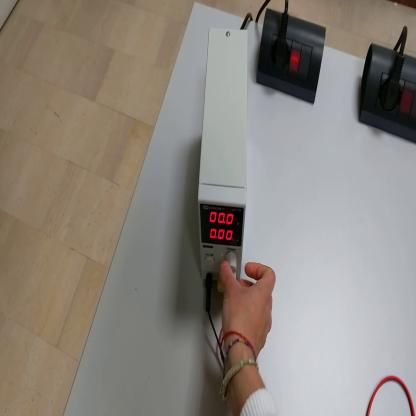hand: (220, 259, 277, 360)
power supply: (197, 28, 248, 296)
socket: (257, 4, 328, 111), (357, 43, 416, 143)
